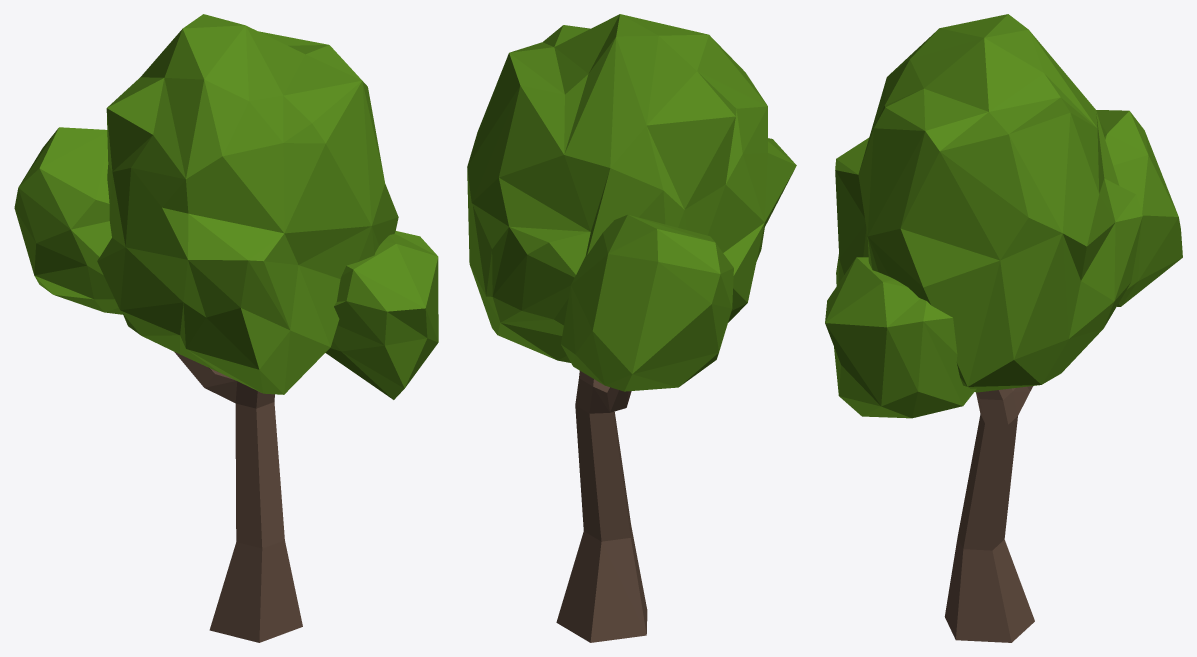
File: Ddanlvse.FBX
3 renders of one model, left to right at view 1: azimuth 30°, elevation 25°; view 2: azimuth 150°, elevation 25°; view 3: azimuth 270°, elevation 25°, orthographic. The views are drawn at different scales.
Parts seen in each view (by area): view 1: 对象005; view 2: 对象005; view 3: 对象005.
Part boxes in pixels (x1,y1,x2,y2): 对象005: [14, 14, 438, 642]; 对象005: [467, 14, 796, 642]; 对象005: [825, 14, 1182, 642].
Size of the model in its own units: 27.23 by 50.33 by 28.05.
